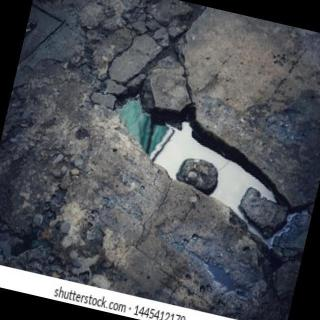pothole: (114, 74, 314, 285)
